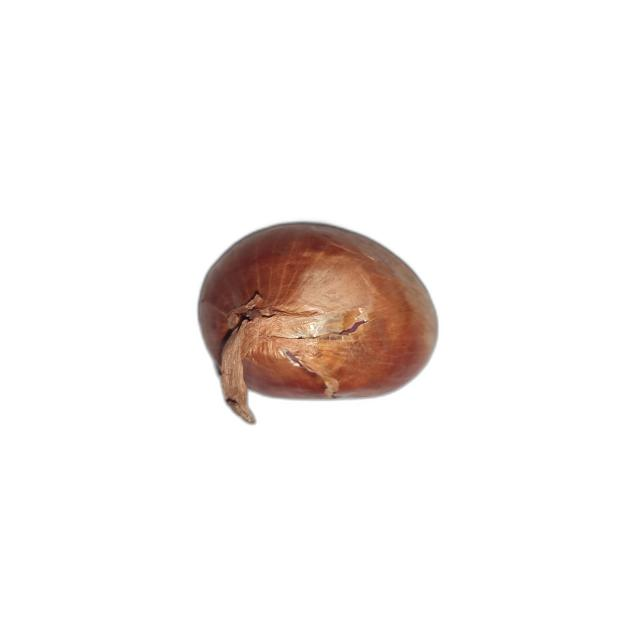onion: (198, 224, 439, 423)
